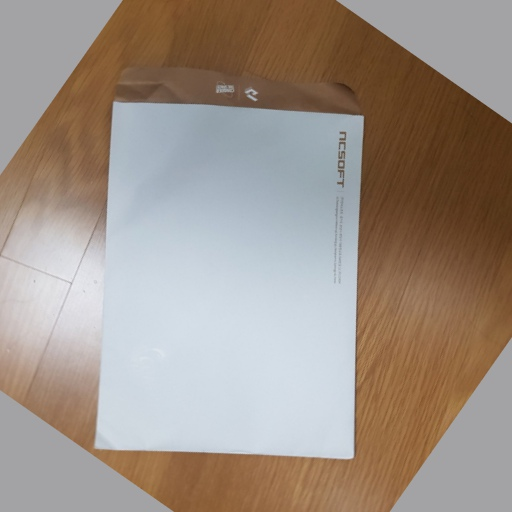Paper_2: (92, 58, 368, 477)
